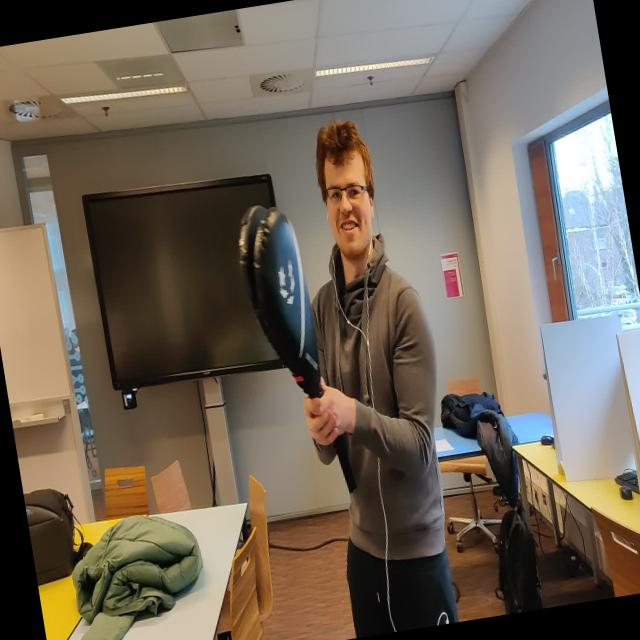paddle: (237, 204, 322, 401)
